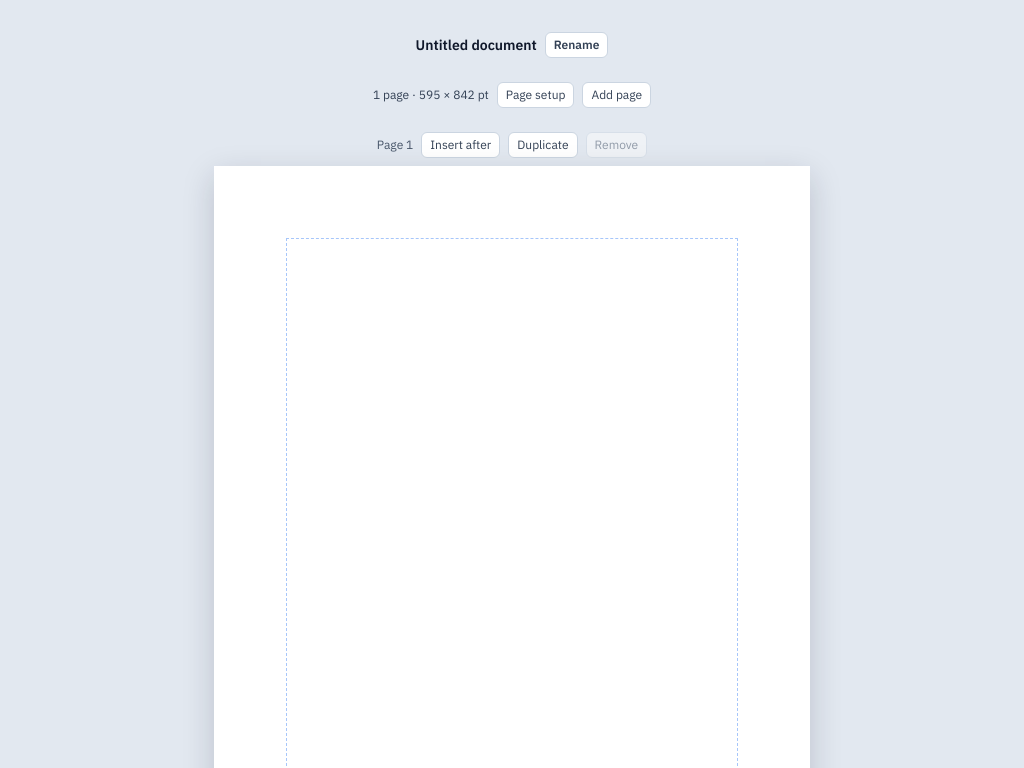
Test case: WriterBlankDocumentCanvas page setup flow › applies page setup changes to Writer store and rendered page size
Click the button with test id "writer-blank-document-page-setup-button".
click(536, 95)  # box [497,82,574,108]
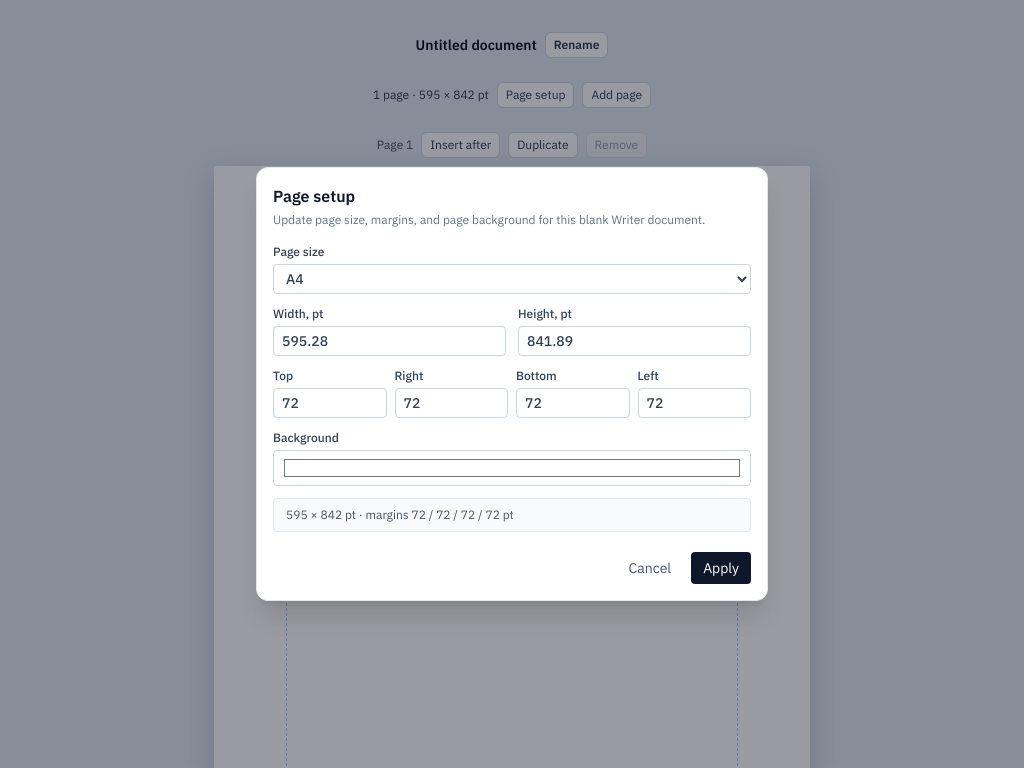
Select "Letter" in the dropdown with test id "blank-page-setup-preset-select" at (512, 279), box [273,264,751,294]
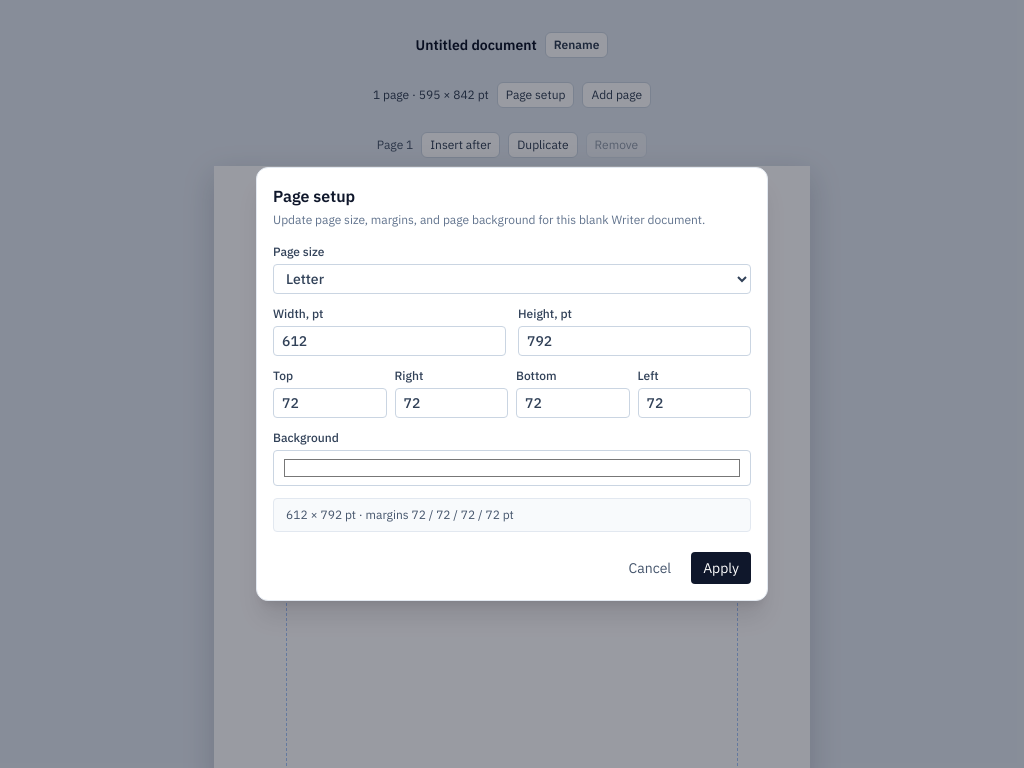
Replace the text in the number field with test id "blank-page-setup-margin-left-input" with "36" at (694, 403), box [638,388,751,418]
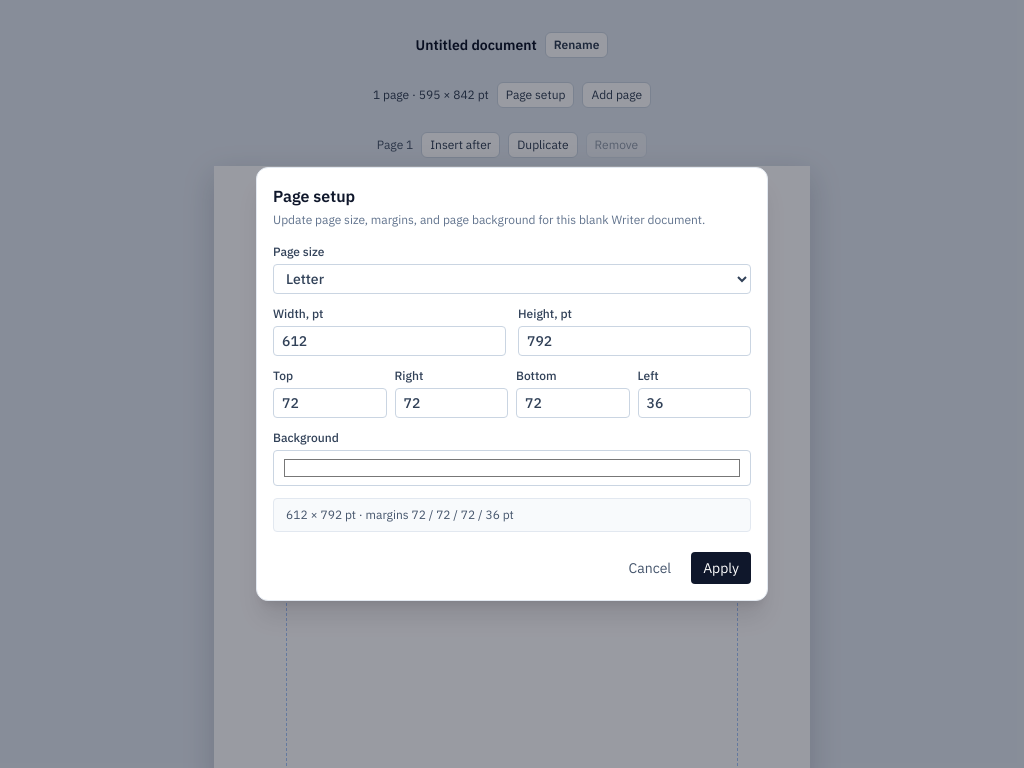
Click the button with test id "blank-page-setup-apply-button".
click(721, 568)  # box [691,552,751,584]
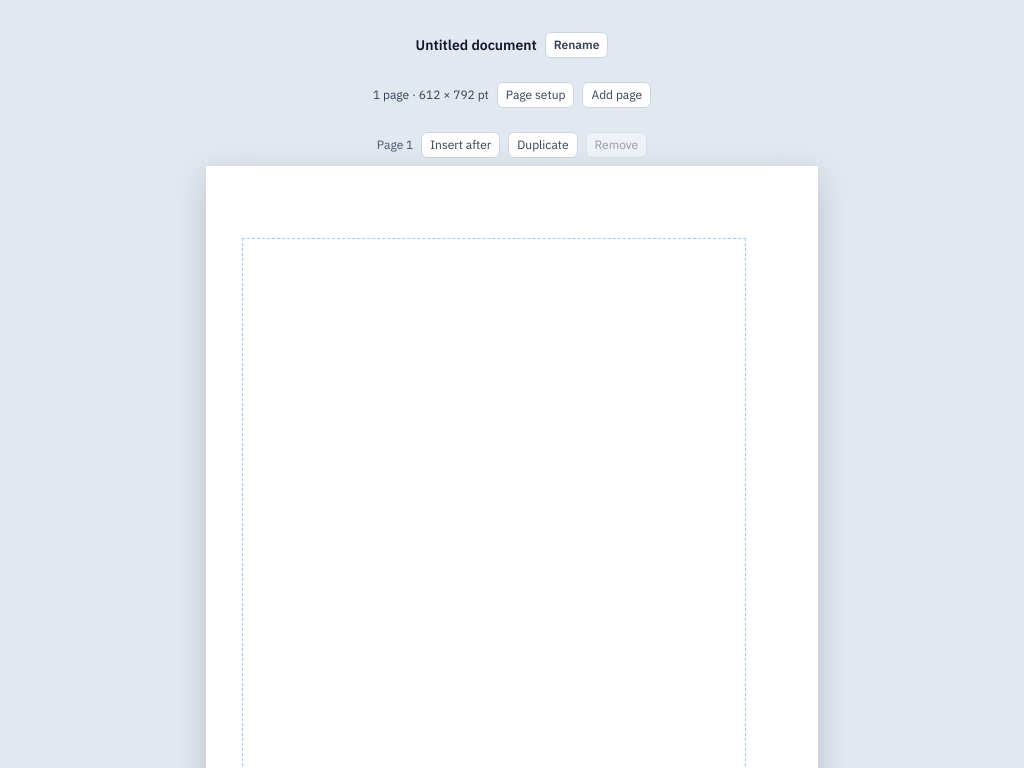
Now the dialog with test id "blank-document-page-setup-dialog" is gone
Now the text "1 page · 612 × 792 pt" is shown, box [373,86,489,104]
